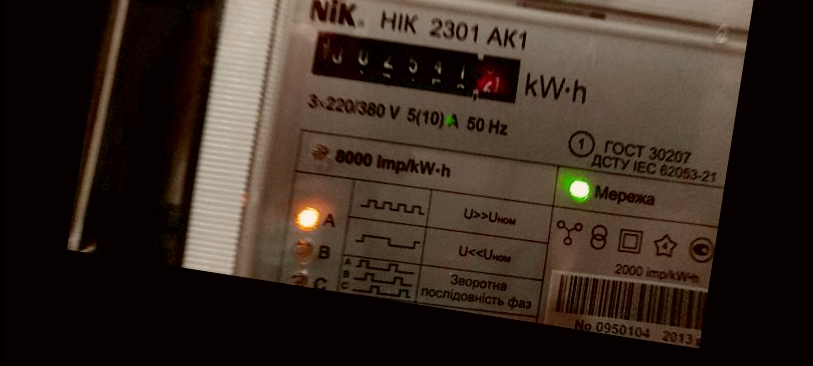0: (327, 38, 348, 67), (354, 39, 372, 68)
1: (454, 53, 471, 82)
2: (379, 43, 398, 70)
4: (430, 50, 447, 75)
5: (403, 46, 425, 76)
6: (479, 74, 497, 94)
screen: (297, 12, 538, 119)
